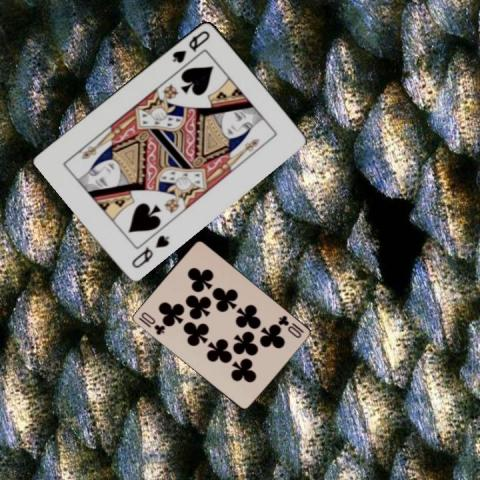10c: (135, 308, 167, 336), (274, 313, 304, 340)
Qs: (128, 232, 171, 270), (169, 27, 212, 64)
